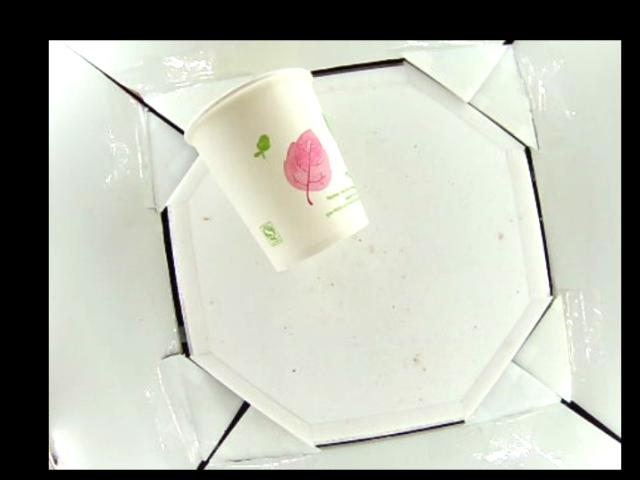Cup: (180, 69, 368, 271)
